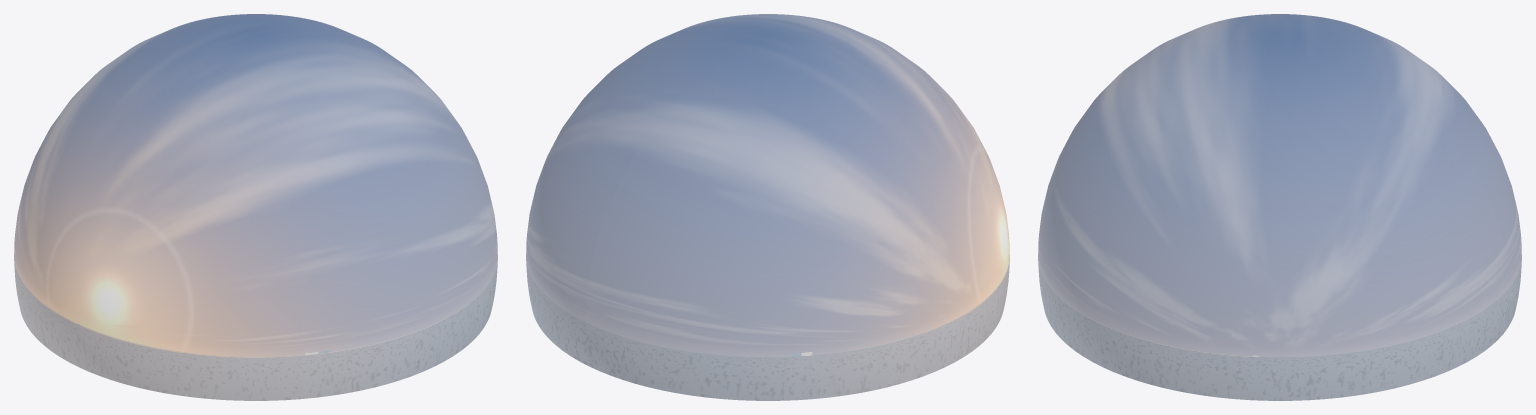
File: arctic_ice.gltf
3 renders of one model, left to right at view 1: azimuth 30°, elevation 25°; view 2: azimuth 150°, elevation 25°; view 3: azimuth 270°, elevation 25°, orthographic.
Parts seen in each view (by area): view 1: SkyDome.front, SkyDome.back; view 2: SkyDome.front, SkyDome.back; view 3: SkyDome.back, SkyDome.front.
Part boxes in pixels (left/top/right/bottom): SkyDome.front: left=14, top=15, right=302, bottom=400; SkyDome.back: left=235, top=14, right=497, bottom=398; SkyDome.front: left=585, top=26, right=1009, bottom=400; SkyDome.back: left=526, top=14, right=872, bottom=365; SkyDome.back: left=1038, top=33, right=1508, bottom=400; SkyDome.front: left=1096, top=14, right=1521, bottom=332.
Bounding box in the file's own units: 2300 × 1389 × 2300.
Materials: 17 (17 with a texture image).
